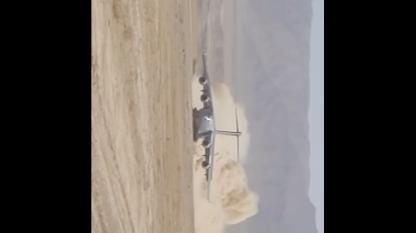C2: (193, 52, 242, 203)
